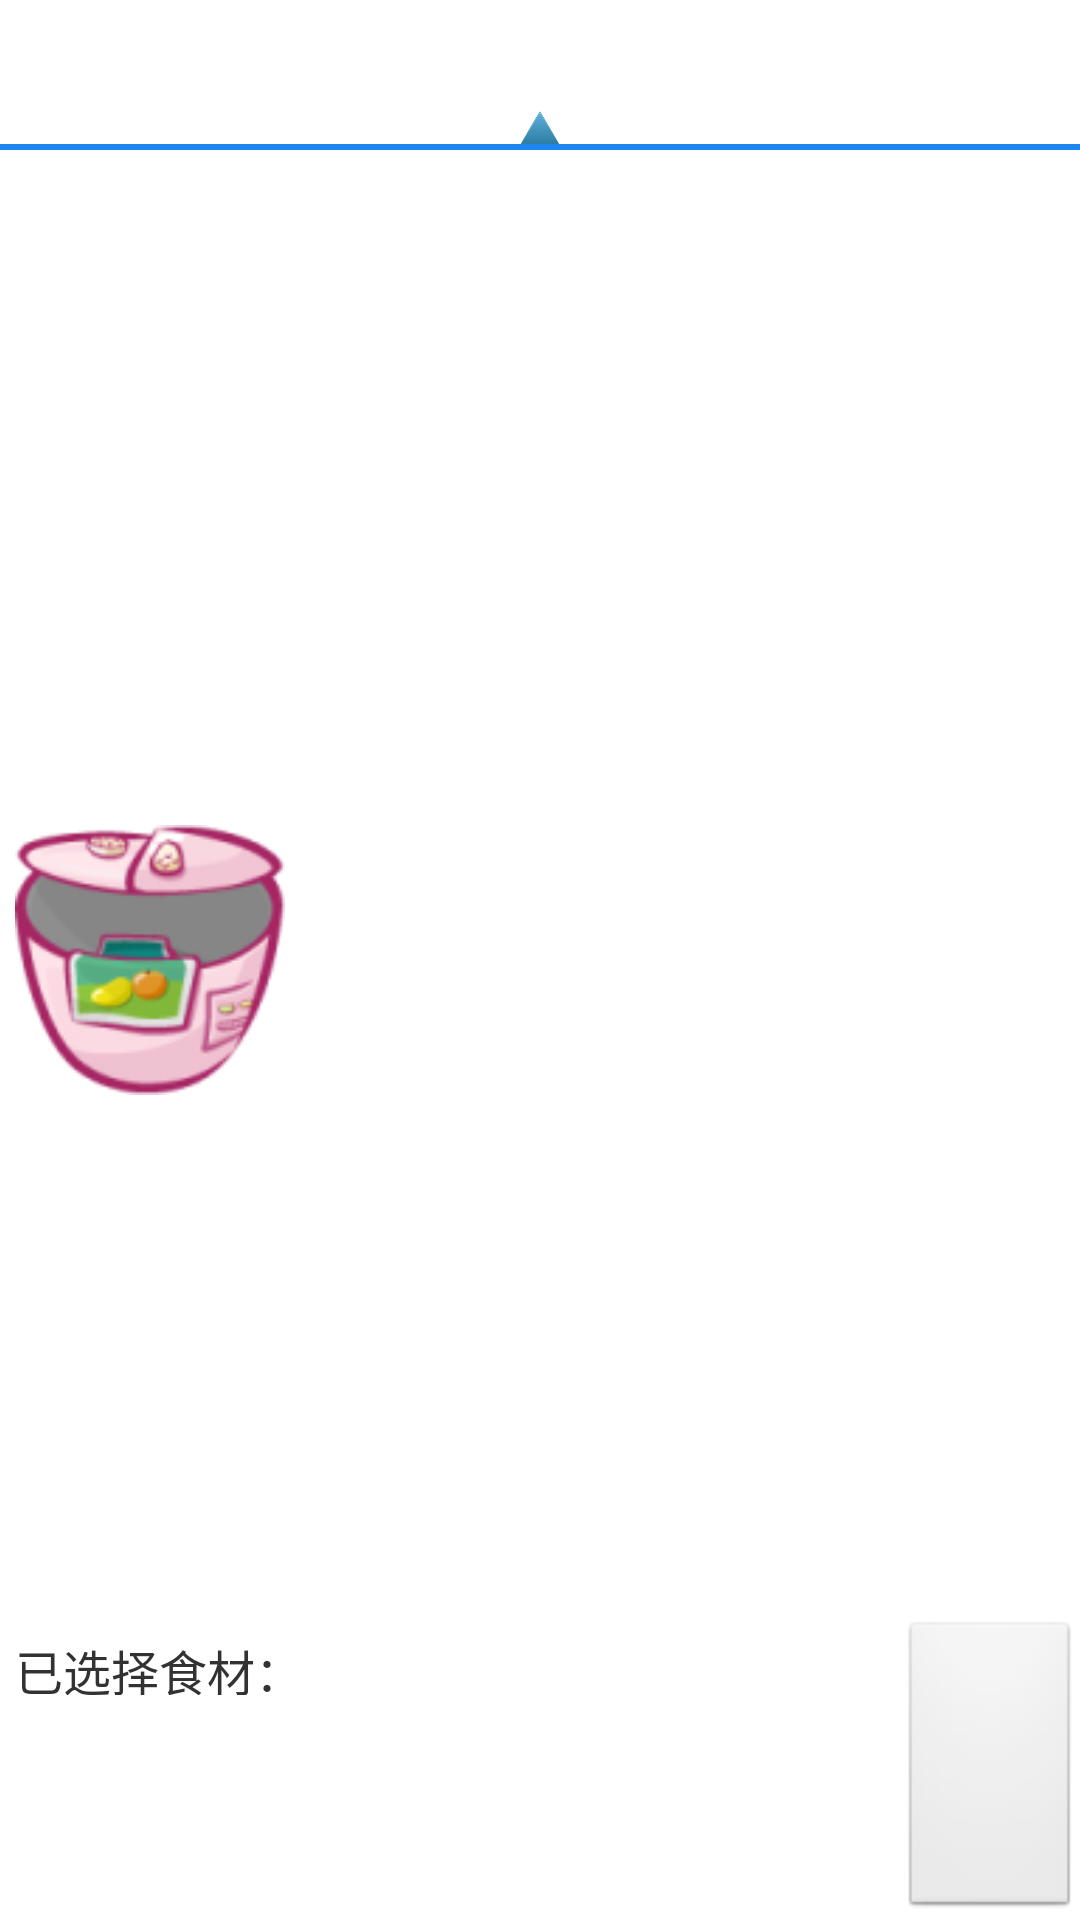

Screen size 1080x1920. Icon name, then its center in pixels as (x,y):
pot: (150,960)
